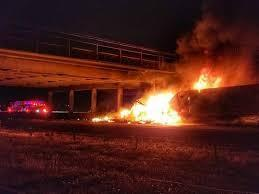fire: (85, 83, 187, 126), (189, 67, 224, 91)
